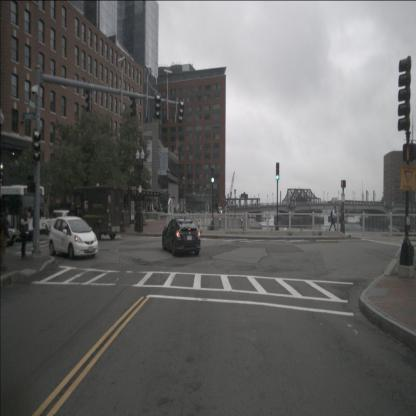human-pedestrian-adult: (0, 206, 11, 271), (20, 206, 30, 260), (328, 206, 338, 233)
vehicle-bus-rigid: (0, 184, 47, 237)
vehicle-car: (68, 186, 125, 241), (49, 216, 99, 261), (162, 218, 201, 258), (41, 209, 70, 235)
